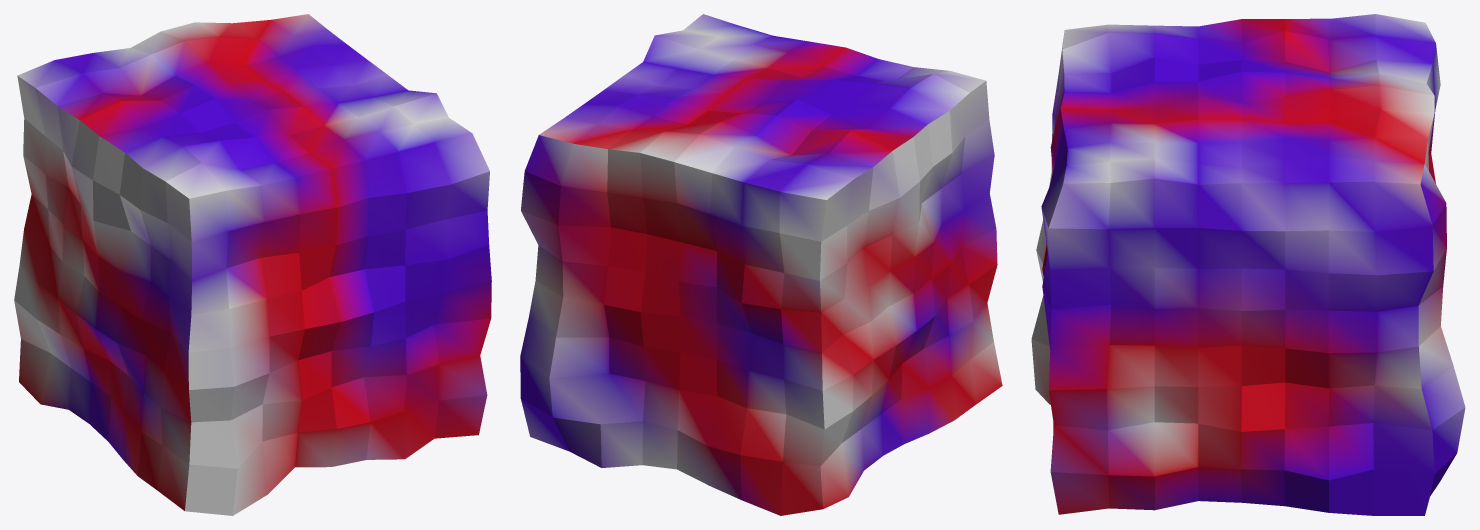
The model's file is cube_vertexcolor2.dae.
The picture shows the model from 3 angles, left to right: view 1: azimuth 30°, elevation 25°; view 2: azimuth 150°, elevation 25°; view 3: azimuth 270°, elevation 25°; orthographic projection. The views are drawn at different scales.
Parts seen in each view (by area): view 1: Cube; view 2: Cube; view 3: Cube.
Part boxes in pixels (x1,y1,x2,y2): Cube: [14, 14, 491, 515]; Cube: [520, 14, 1002, 515]; Cube: [1031, 14, 1465, 515].
Size of the model in its own units: 2.32 by 2.49 by 2.32.
